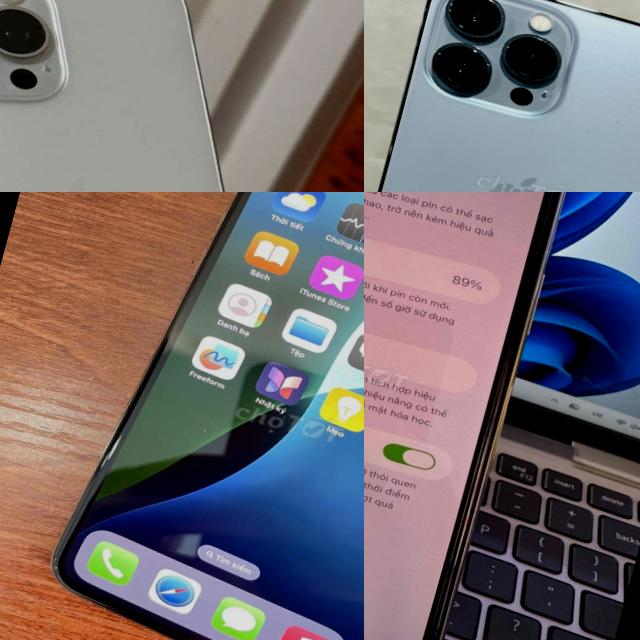gen_11: (364, 192, 590, 640)
gen_12_13: (364, 0, 640, 192)
gen_15: (0, 0, 364, 192)
gen_x_xs: (52, 192, 364, 640)
